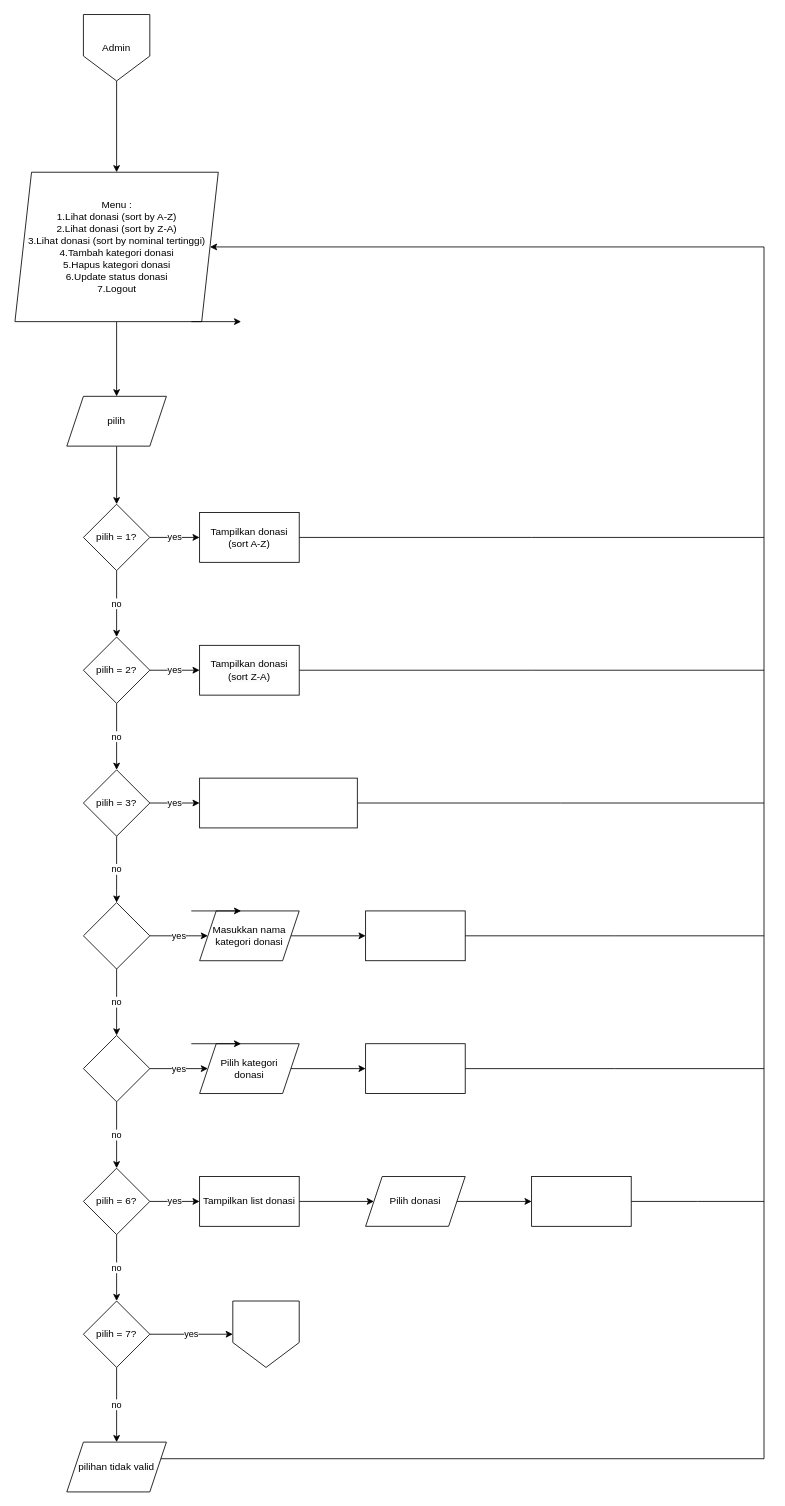
This 785x1506 diagram has some shape labels left out. The box of each missing label's shape, as (x1, y1, x2, y2) in pixels:
Hapus donasi: (365, 1043, 465, 1094)
Login: (232, 1300, 299, 1367)
pilih = 4?: (83, 902, 150, 969)
pilih = 5?: (83, 1035, 150, 1102)
Simpan kategori donasi: (365, 910, 465, 961)
Tampilkan donasi (sort nominal tertinggi - terendah): (199, 777, 357, 828)
Ubah status donasi: (531, 1176, 631, 1226)
